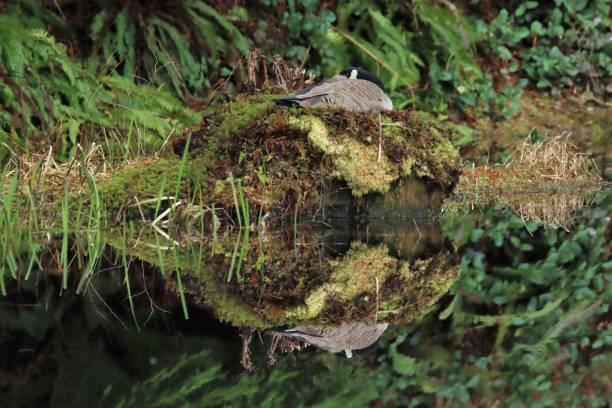Canadian-Goose: (274, 65, 393, 113)
